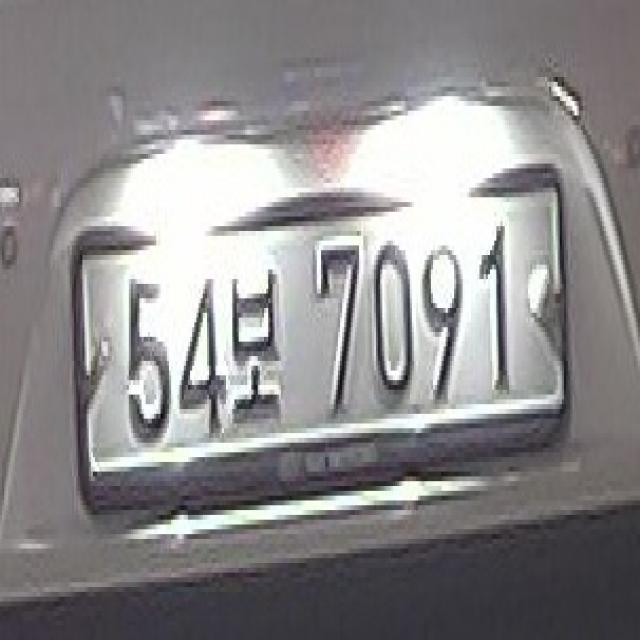0: (366, 207, 416, 409)
1: (475, 207, 520, 404)
4: (180, 245, 226, 467)
5: (120, 255, 182, 462)
7: (300, 207, 372, 428)
9: (416, 231, 465, 419)
bo: (224, 246, 287, 428)
license_plate: (68, 158, 587, 548)
